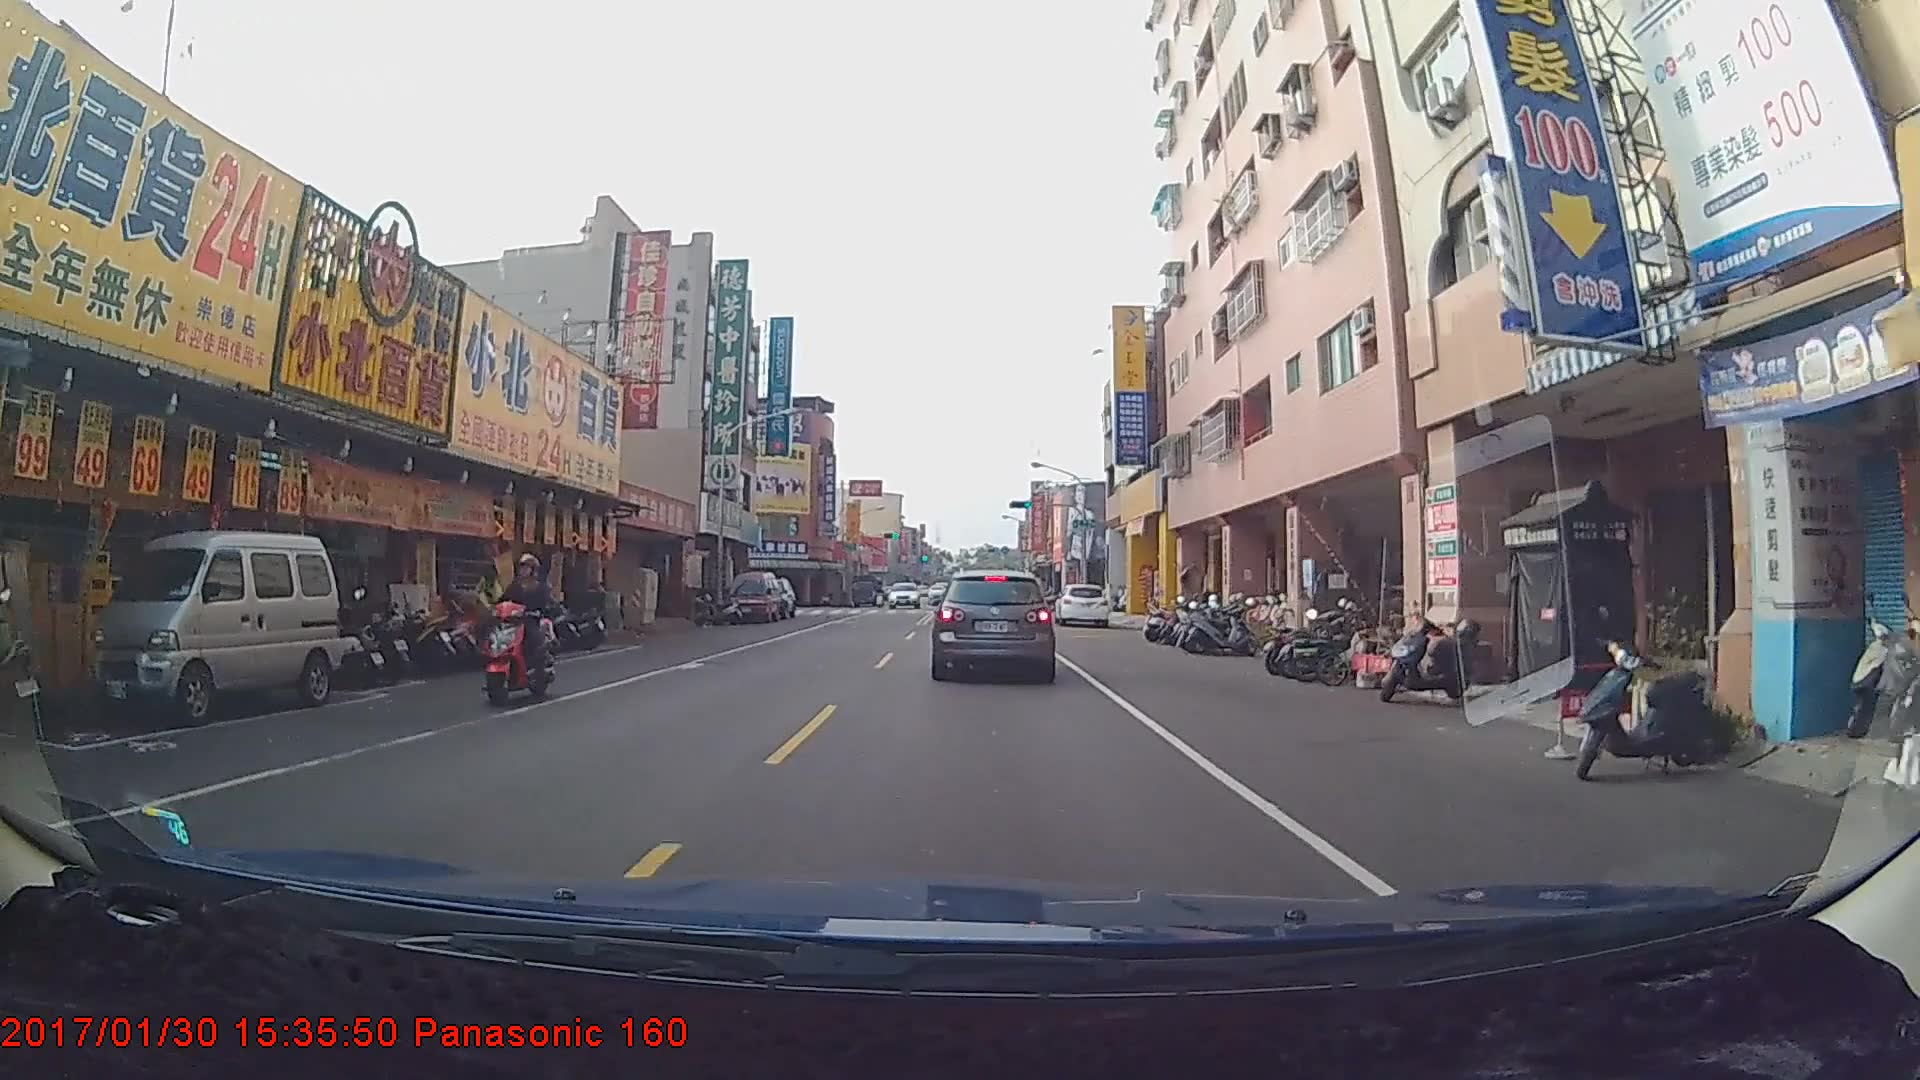pedestrian: (464, 568, 503, 657)
rider: (479, 549, 565, 713)
vehicle: (87, 534, 335, 730), (931, 567, 1056, 679), (727, 569, 781, 622), (1054, 582, 1110, 628), (886, 581, 919, 607)
